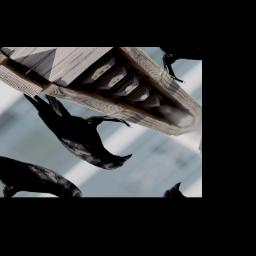Crow: (0, 75, 156, 177)
